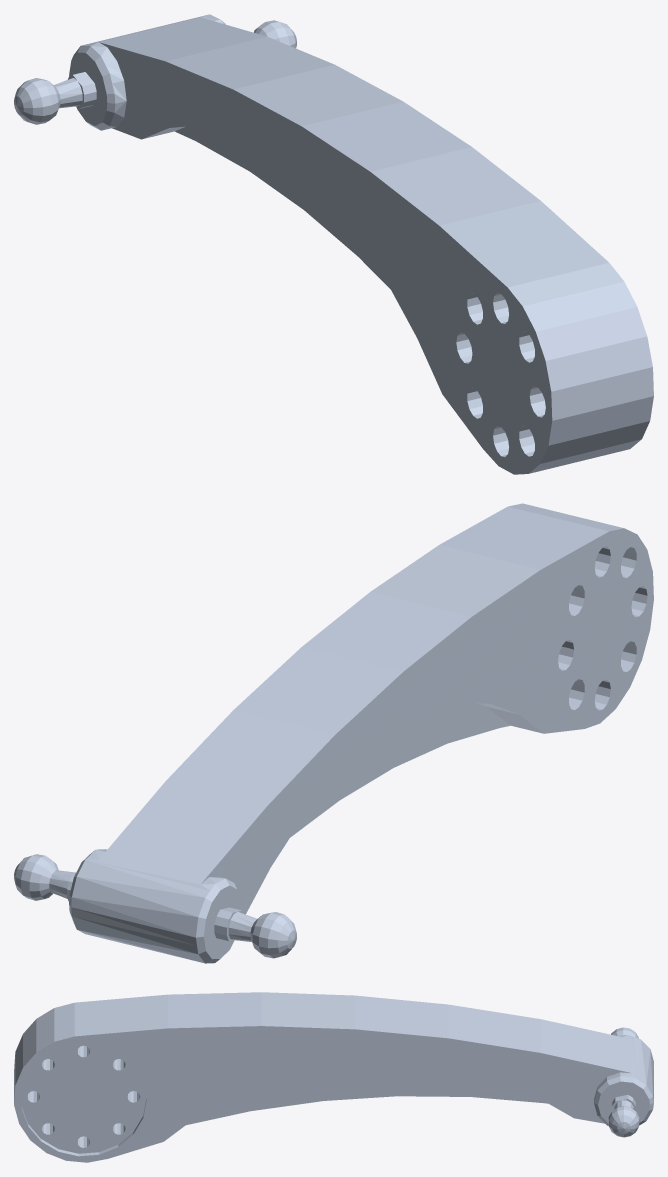
Rendered from Hip1.dae.
3 renders of one model, top to bottom at view 1: azimuth 30°, elevation 25°; view 2: azimuth 150°, elevation 25°; view 3: azimuth 270°, elevation 25°, orthographic. The views are drawn at different scales.
Visible parts, largest first — view 1: Hip1; view 2: Hip1; view 3: Hip1.
Part boxes in pixels (bbox=[...]): Hip1: bbox=[14, 14, 653, 474]; Hip1: bbox=[14, 503, 653, 963]; Hip1: bbox=[14, 992, 653, 1162].
Bounding box in the file's own units: 0.109 × 0.3199 × 0.0754.
